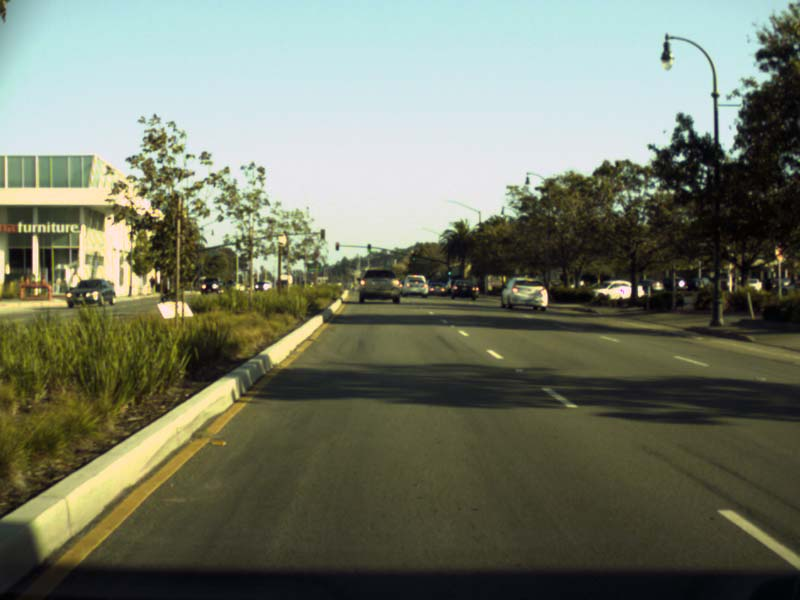Green: (366, 243, 371, 251), (447, 267, 452, 275), (411, 253, 415, 261)
Red: (334, 242, 338, 250)
